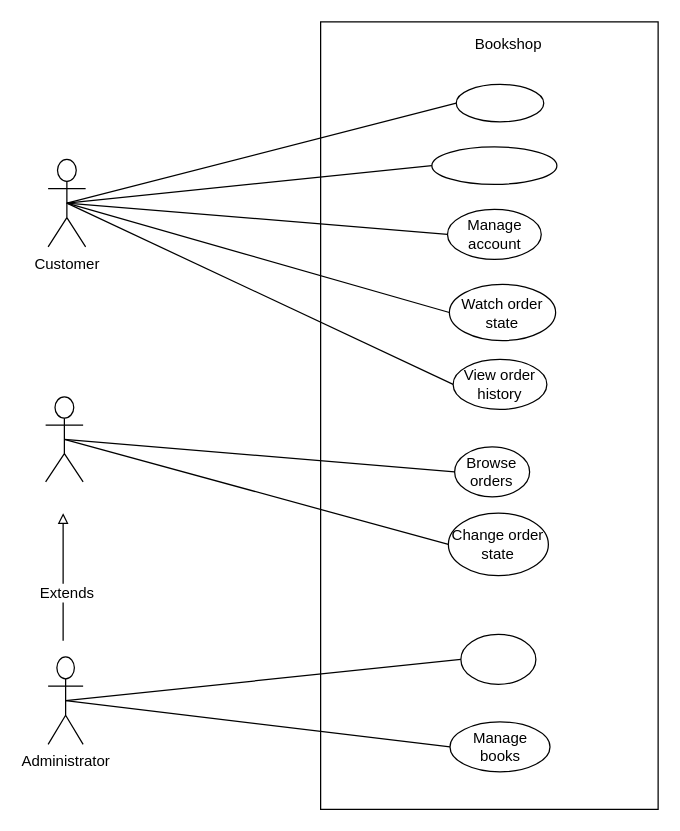
Some shapes in this 680 by 831 pixel diagram are drawn without their labels. Here are the shapes that lost their labels. From the top down, the centre of each, then its label:
pixel 499 102: View books
pixel 494 165: Order books
pixel 63 439: Employee
pixel 498 658: Manage users
